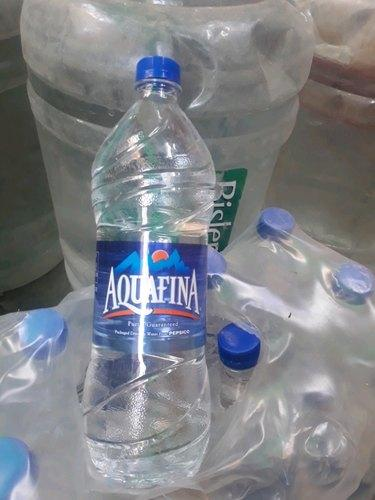bottle: (77, 43, 220, 496)
